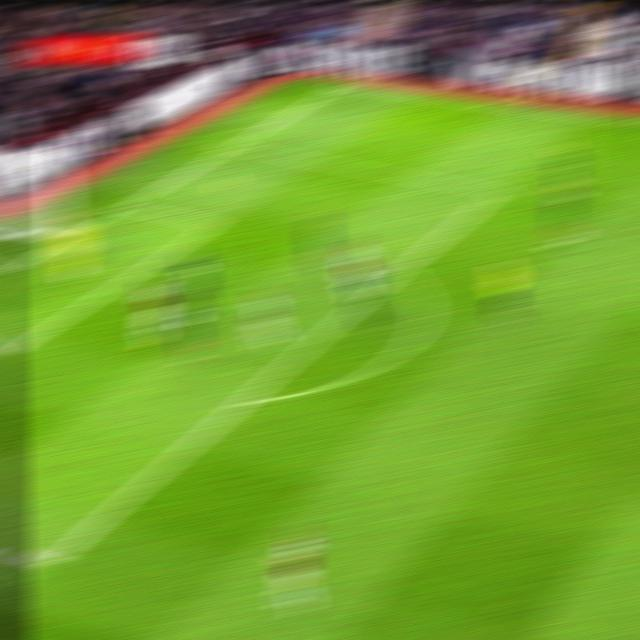bigarea_bottom_inner: (28, 545, 70, 577)
bigarea_top_inner: (480, 179, 512, 201)
bigarea_top_outter: (217, 135, 249, 153)
bottom_arc_area_intersection: (225, 386, 261, 412)
corner: (323, 77, 359, 91)
smallarea_top_inner: (196, 210, 230, 235)
smallarea_top_outter: (108, 193, 143, 216)
top_arc_area_intersection: (382, 262, 413, 282)
